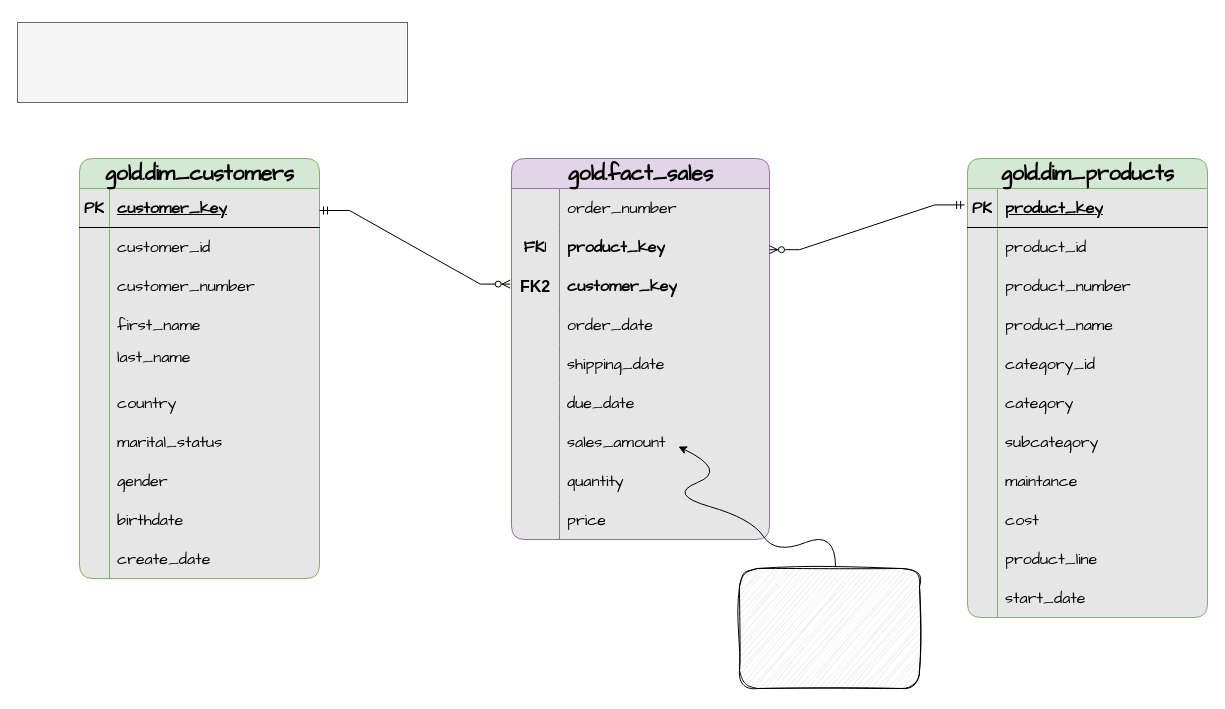
This 1225x709 diagram has some shape labels left out. The centre of each missing label's shape, as x and y in pixels:
"Sales Calculation Sales = quantity * price" goes at [829,628].
"Sales Data Mart (Star Schema)" goes at [212,62].
